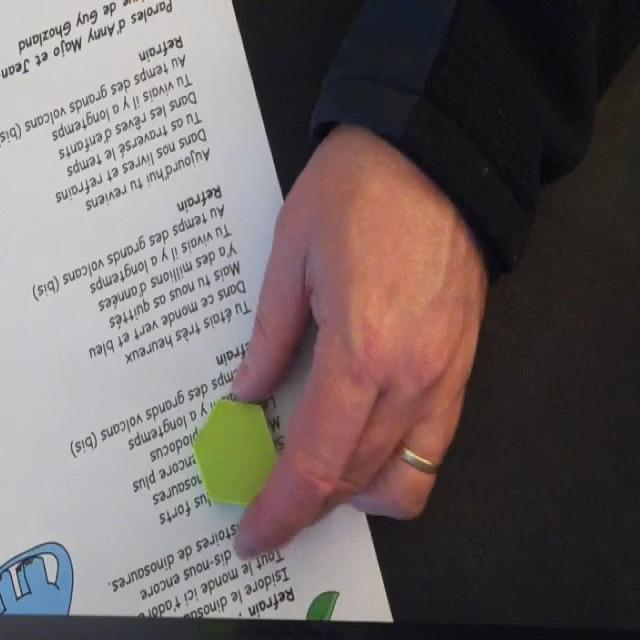hexagon: (193, 397, 281, 515)
